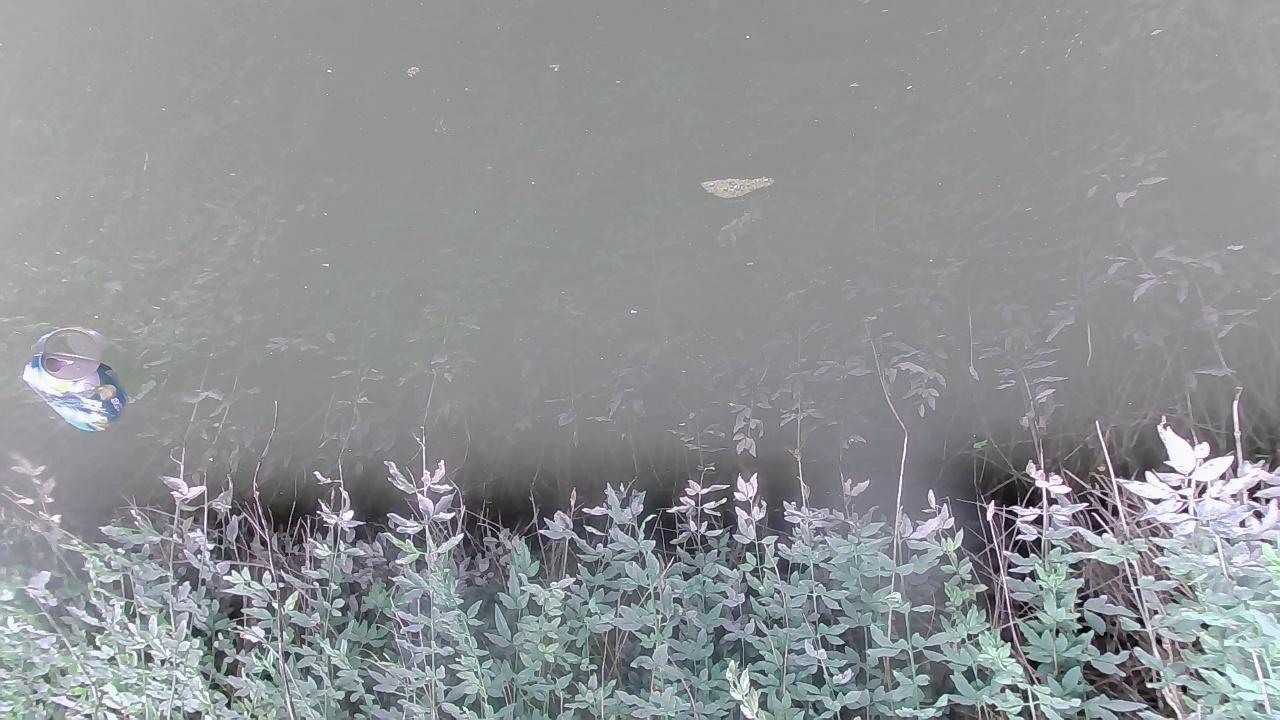Metal: (21, 349, 129, 435)
